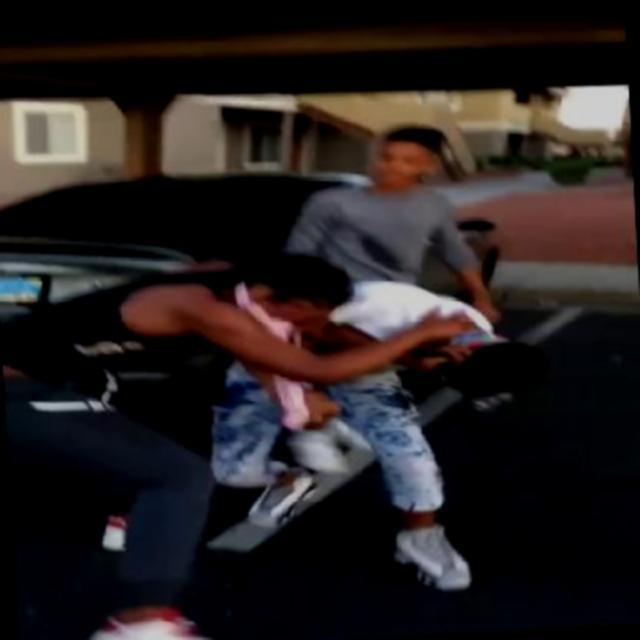fight: (0, 236, 554, 638)
